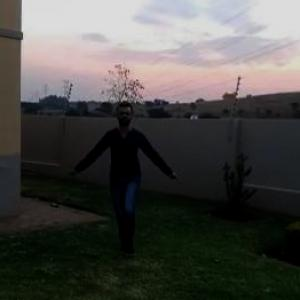land: (78, 105, 174, 242)
